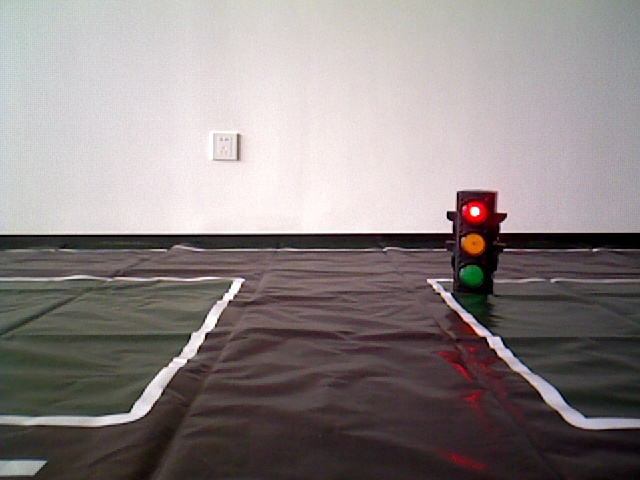red: (451, 194, 492, 299)
